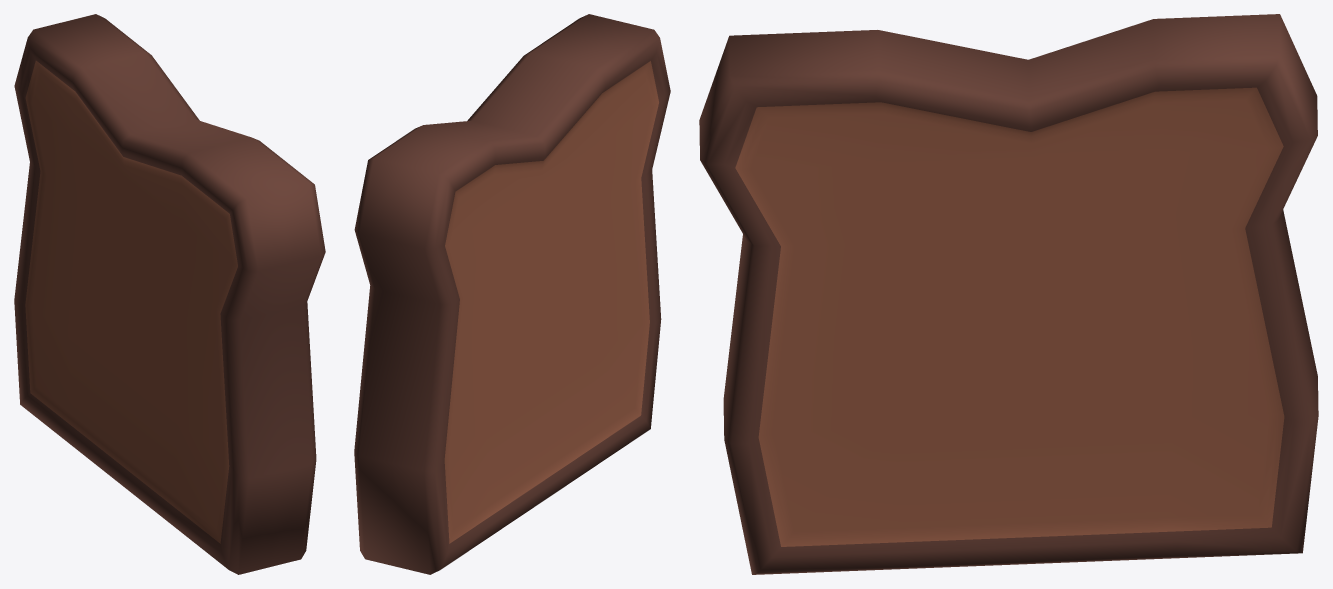
File: toast.fbx
3 views of the same model, side by side, from view 1: azimuth 30°, elevation 25°; view 2: azimuth 150°, elevation 25°; view 3: azimuth 270°, elevation 25° (orthographic). The views are drawn at different scales.
Parts seen in each view (by area): view 1: Cube.000; view 2: Cube.000; view 3: Cube.000.
Part boxes in pixels (<box>): Cube.000: <box>14,14,325,574</box>; Cube.000: <box>354,14,670,574</box>; Cube.000: <box>699,14,1318,574</box>.
Size of the model in its own units: 45.01 by 208 by 225.
